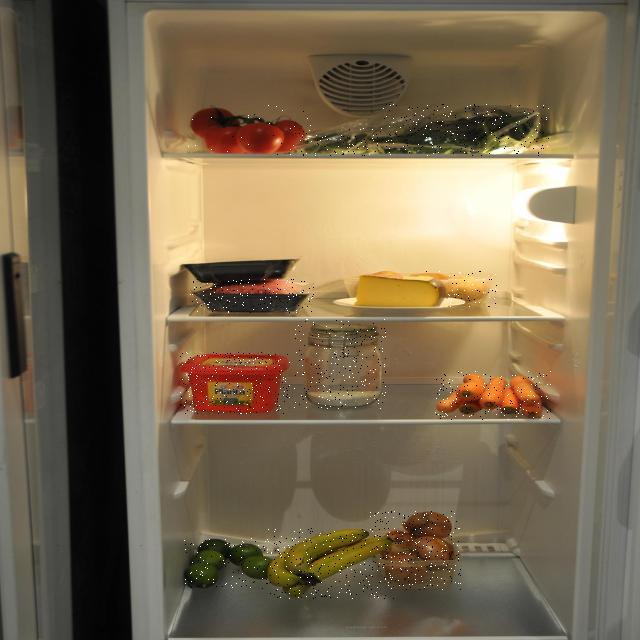banana: (268, 528, 394, 599)
butter: (180, 352, 290, 414)
carrot: (434, 371, 551, 420)
cheese: (350, 272, 448, 312)
flour: (294, 319, 386, 409)
green_beans: (290, 125, 394, 156)
ground_beef: (190, 279, 314, 313)
lime: (184, 538, 280, 589)
onion: (370, 511, 461, 590)
potato: (422, 272, 498, 308)
spinach: (382, 104, 549, 156)
tomato: (186, 105, 310, 157)
